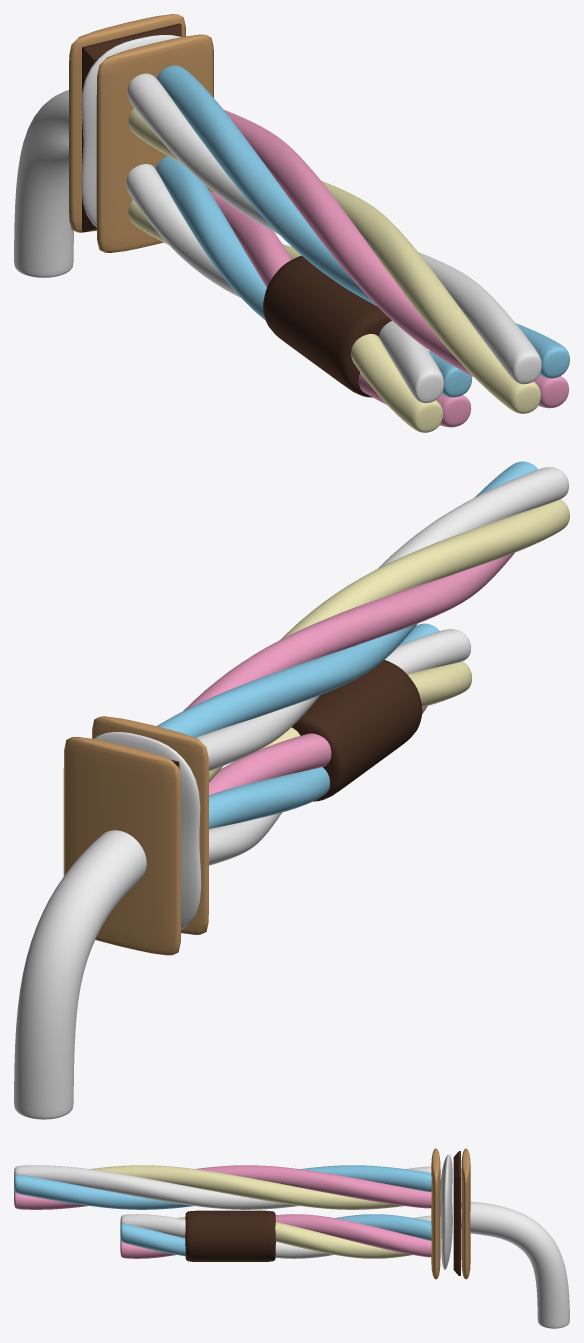
Rendered from Shotgun_2.0Marshmallow.fbx.
The picture shows the model from 3 angles, top to bottom: view 1: azimuth 30°, elevation 25°; view 2: azimuth 150°, elevation 25°; view 3: azimuth 270°, elevation 25°; orthographic projection. The views are drawn at different scales.
Visible parts, largest first — view 1: Marsh_Maior, Marsh_Menor, Biscoito_Frente, Chocolate_Cilindro, Cabo, Biscoito_Trás, Marsh_Esmagado, Chocolate_Barra; view 2: Marsh_Maior, Cabo, Biscoito_Trás, Marsh_Menor, Chocolate_Cilindro, Biscoito_Frente, Marsh_Esmagado; view 3: Marsh_Maior, Marsh_Menor, Cabo, Chocolate_Cilindro, Marsh_Esmagado, Biscoito_Trás, Biscoito_Frente, Chocolate_Barra.
Part boxes in pixels (x1=…): Marsh_Maior: x1=127, y1=65, x2=569, y2=413; Marsh_Menor: x1=126, y1=156, x2=472, y2=432; Biscoito_Frente: x1=96, y1=34, x2=213, y2=252; Chocolate_Cilindro: x1=263, y1=255, x2=391, y2=397; Cabo: x1=14, y1=90, x2=73, y2=277; Biscoito_Trás: x1=69, y1=14, x2=185, y2=232; Marsh_Esmagado: x1=81, y1=35, x2=181, y2=227; Chocolate_Barra: x1=82, y1=23, x2=181, y2=231; Marsh_Maior: x1=157, y1=461, x2=569, y2=782; Cabo: x1=14, y1=830, x2=146, y2=1119; Biscoito_Trás: x1=63, y1=737, x2=180, y2=955; Marsh_Menor: x1=209, y1=623, x2=471, y2=865; Chocolate_Cilindro: x1=291, y1=660, x2=422, y2=801; Biscoito_Frente: x1=92, y1=716, x2=208, y2=934; Marsh_Esmagado: x1=94, y1=732, x2=201, y2=929; Marsh_Maior: x1=14, y1=1165, x2=431, y2=1209; Marsh_Menor: x1=120, y1=1214, x2=431, y2=1258; Cabo: x1=461, y1=1201, x2=569, y2=1328; Chocolate_Cilindro: x1=185, y1=1210, x2=275, y2=1261; Marsh_Esmagado: x1=440, y1=1154, x2=452, y2=1269; Biscoito_Trás: x1=461, y1=1148, x2=470, y2=1279; Biscoito_Frente: x1=431, y1=1148, x2=440, y2=1279; Chocolate_Barra: x1=453, y1=1151, x2=460, y2=1275.
Size of the model in its own units: 124 by 280 by 864.
